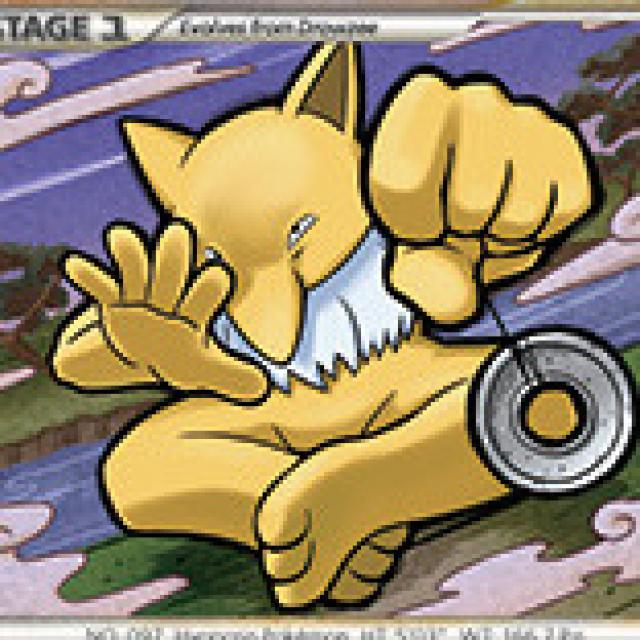Hypno: (111, 103, 602, 582)
